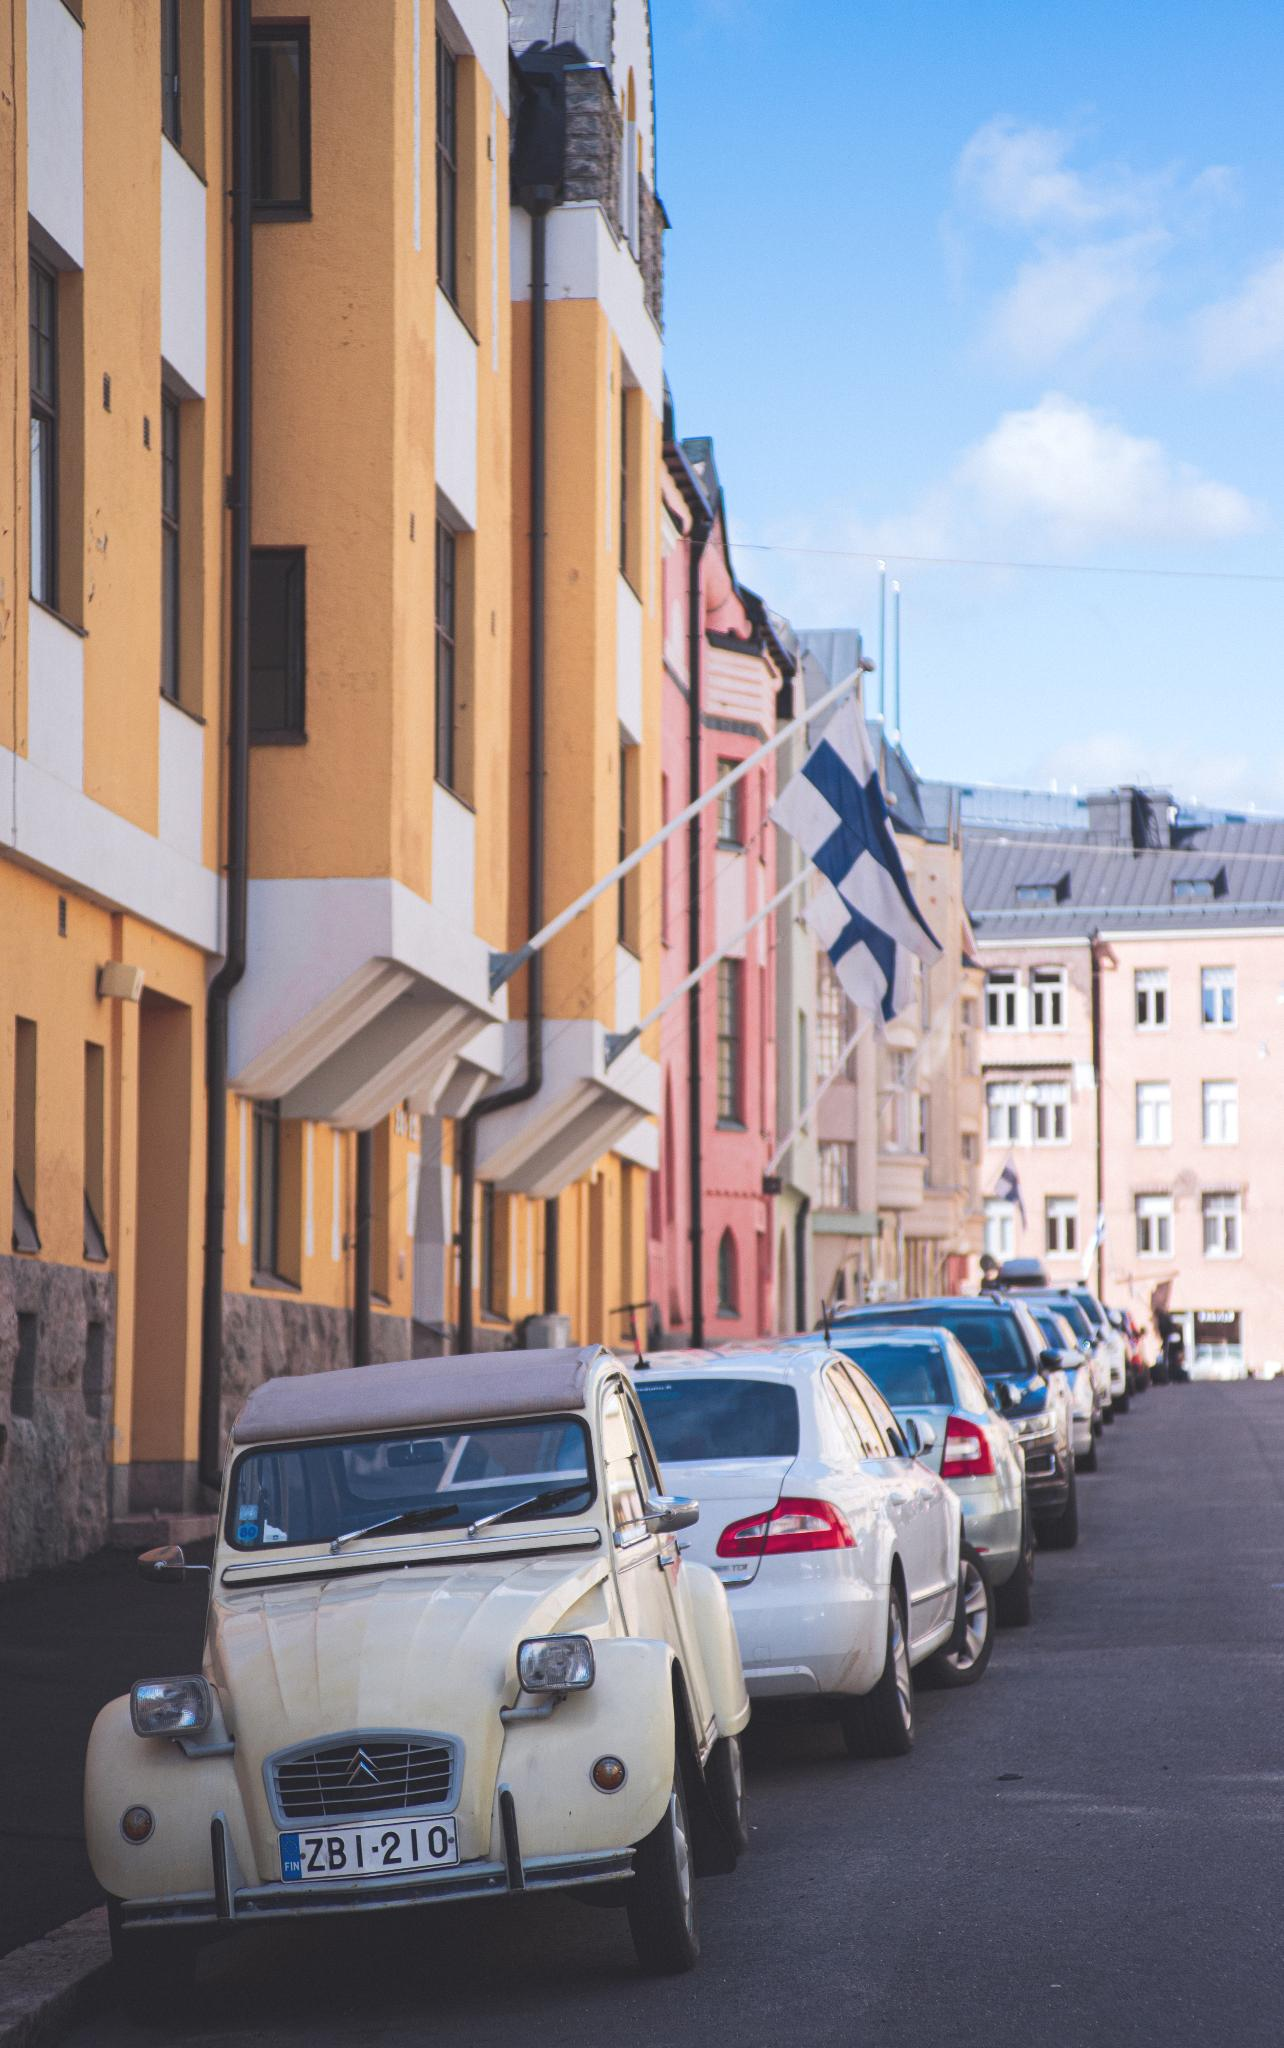Citroen: (337, 1739, 389, 1798)
